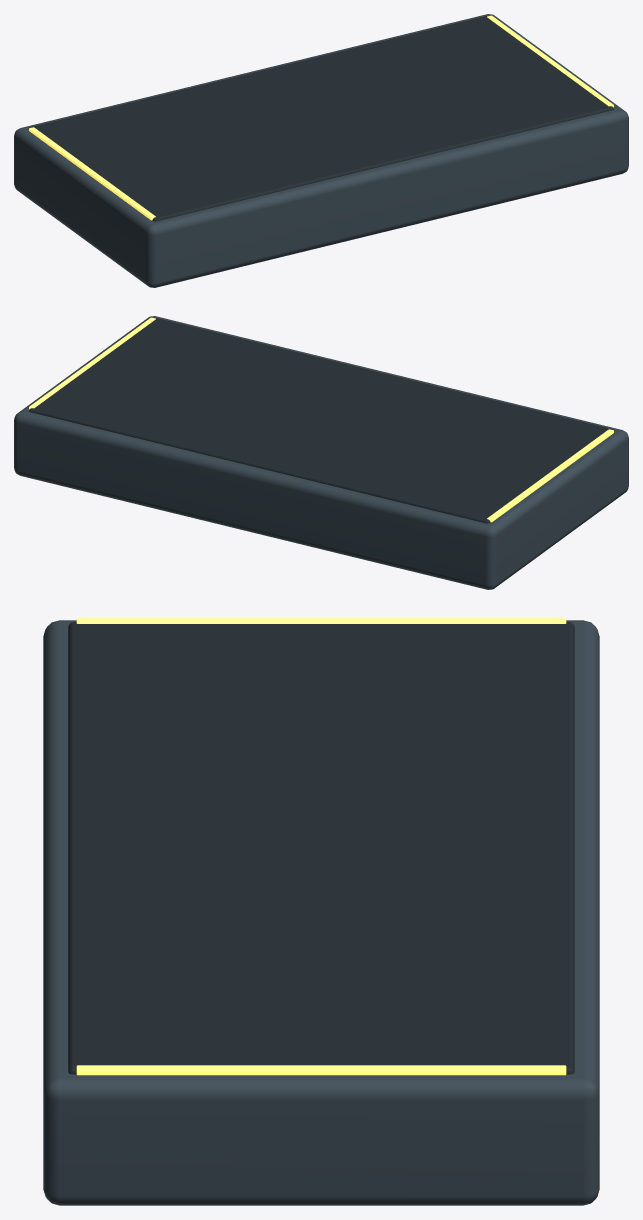
File: perch.glb
The picture shows the model from 3 angles, top to bottom: view 1: azimuth 30°, elevation 25°; view 2: azimuth 150°, elevation 25°; view 3: azimuth 270°, elevation 25°; orthographic projection. The views are drawn at different scales.
Parts seen in each view (by area): view 1: perch; view 2: perch; view 3: perch.
Boxes of the visible parts, x1,y1,x2,y2 form: perch: (14,14,628,287); perch: (14,316,628,589); perch: (43,618,599,1205).
Size of the model in its own units: 4 by 0.524 by 2.
